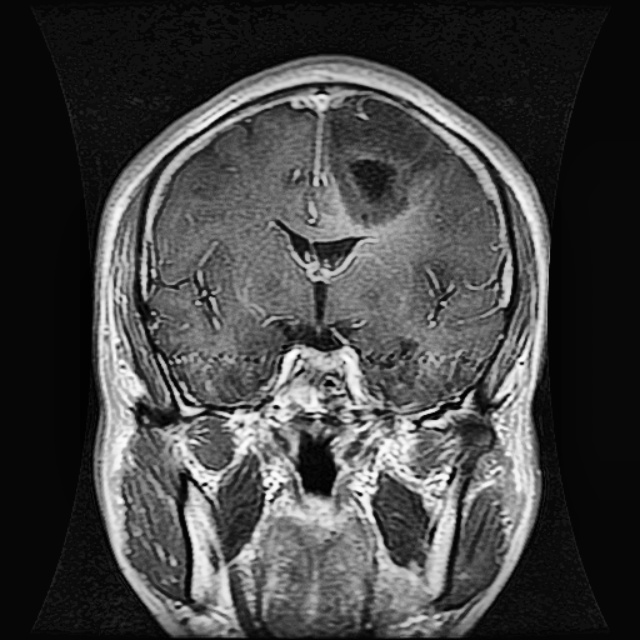Meningioma: (325, 90, 429, 229)
